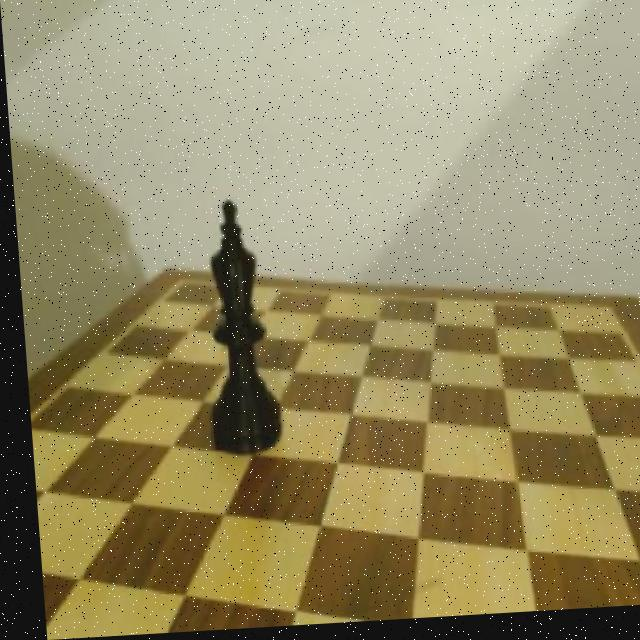black-bishop: (190, 193, 278, 452)
